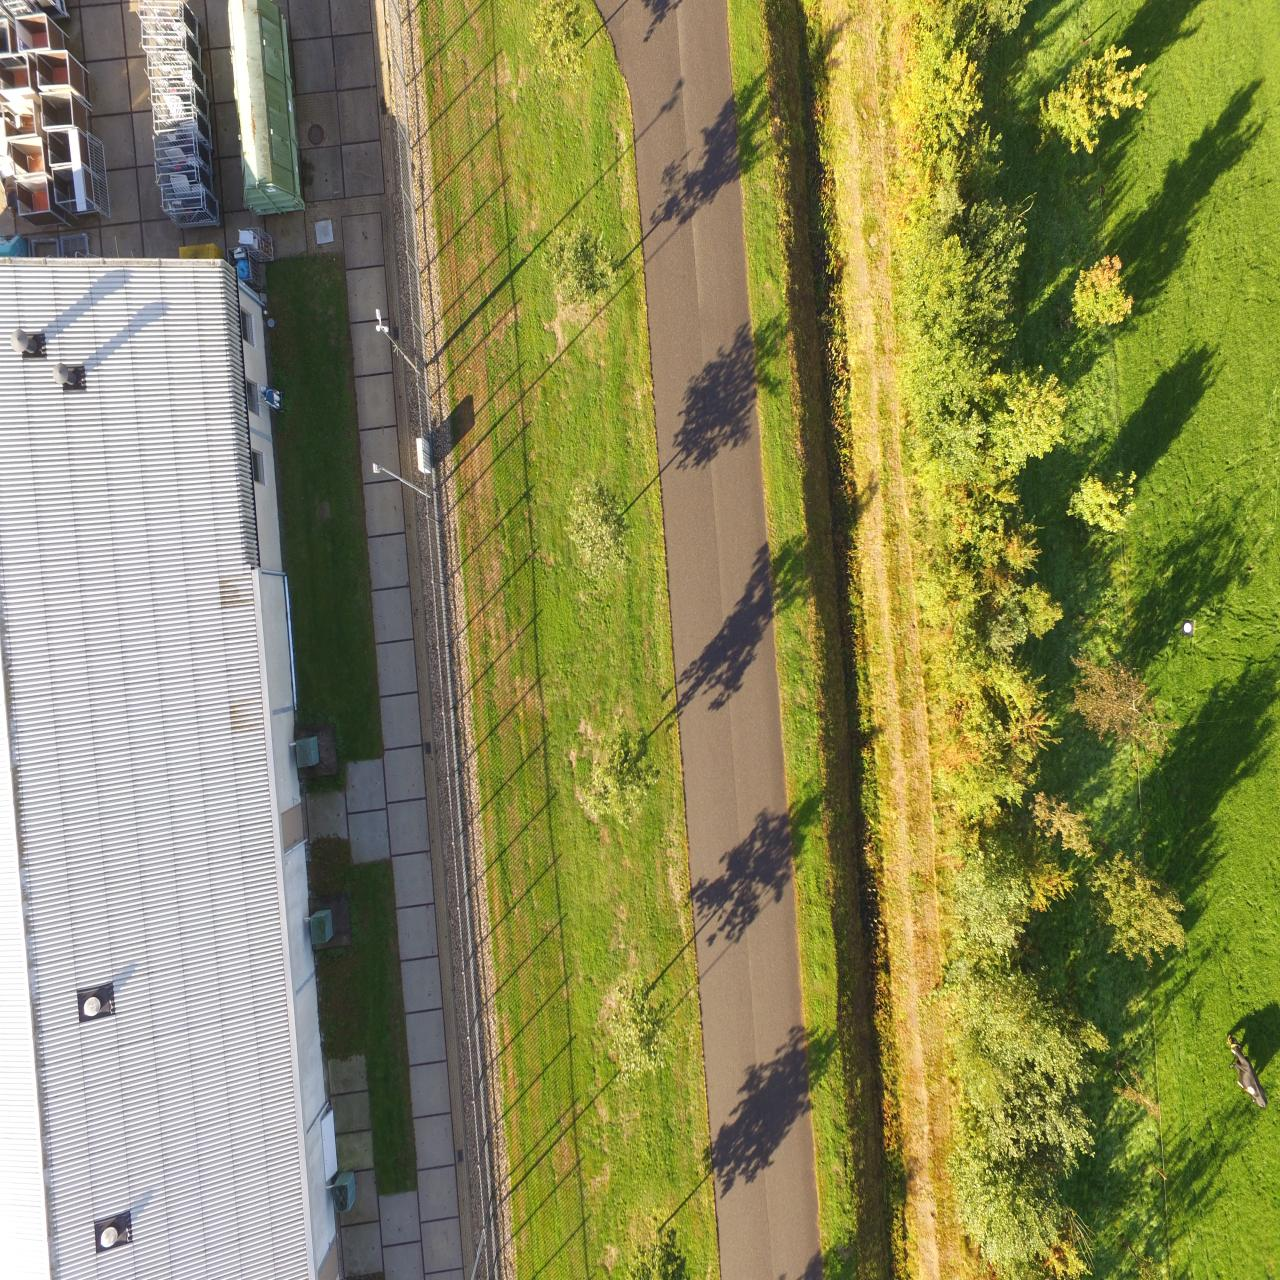cow: (1224, 1028, 1267, 1114)
